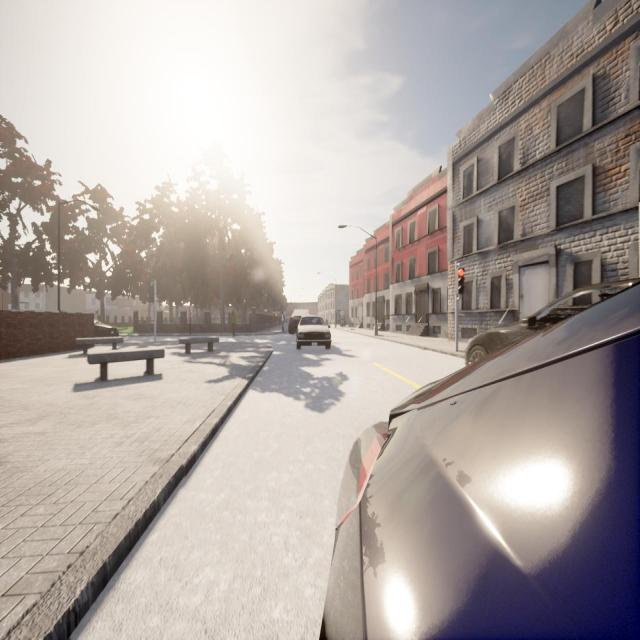Pedestrian: (230, 310, 237, 338), (280, 312, 286, 334), (264, 315, 270, 332)
Traffic_Signs: (189, 304, 193, 314), (339, 310, 345, 316)
Vehicle: (323, 282, 639, 638), (465, 284, 640, 366), (296, 316, 332, 350), (288, 309, 309, 334), (94, 318, 119, 337)
traffic_light: (457, 268, 465, 294), (148, 286, 154, 302)
